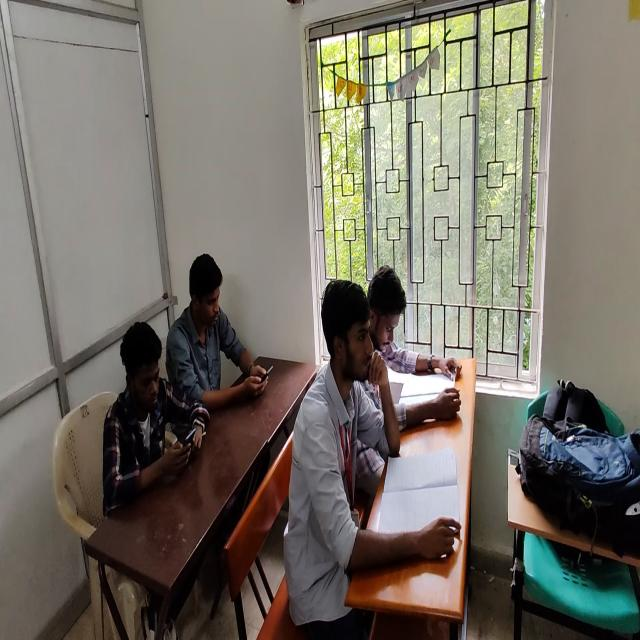reading: (287, 277, 435, 639), (372, 262, 460, 381)
using_mobile: (104, 318, 218, 519), (164, 249, 268, 448)
